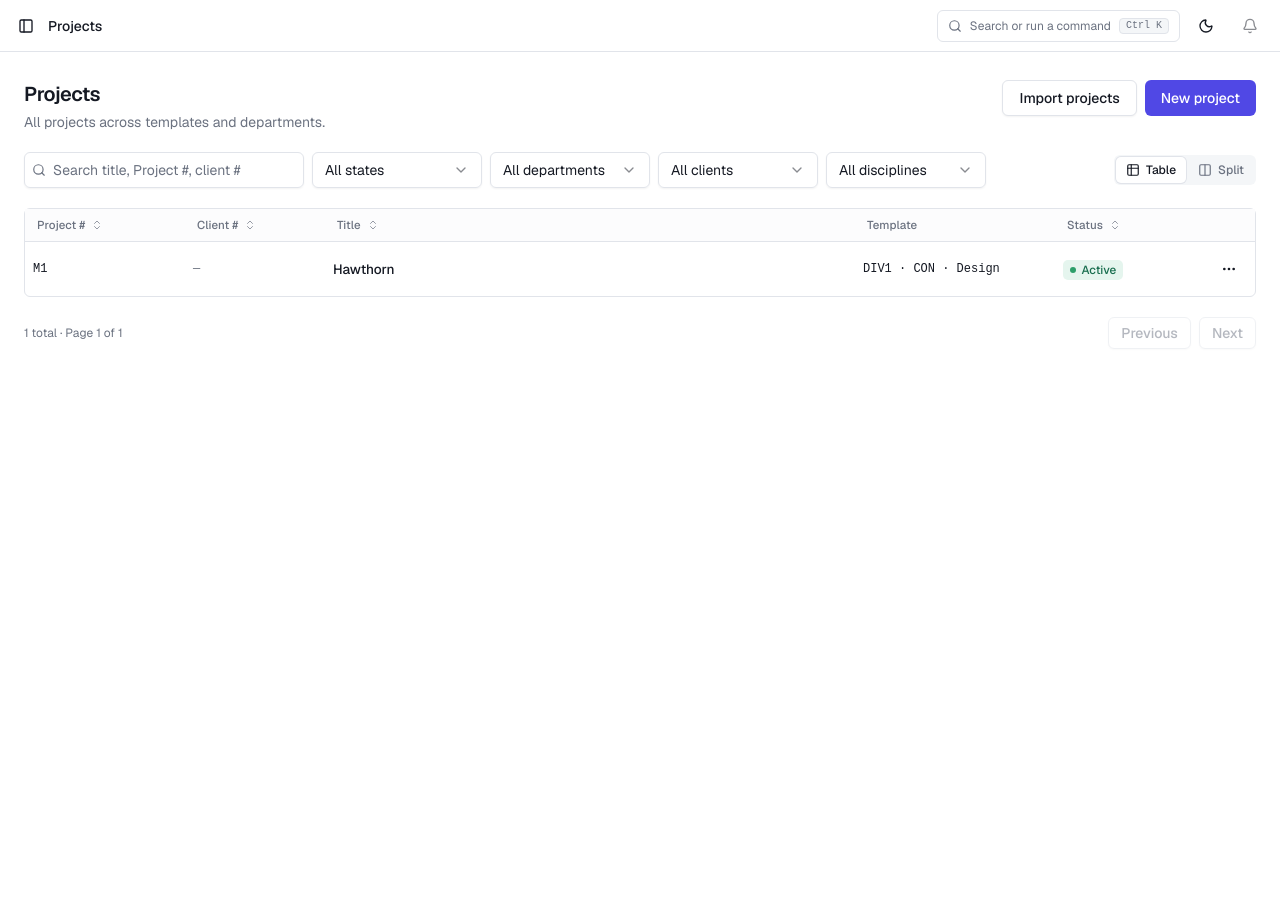
it: ProjectsListPage › Peek panel renders an Open change orders section when there are draft/submitted CORs
expect the text "Hawthorn" is shown: met, box [325, 242, 855, 296]
Default Table layout — click the data row to dock the peek rail.
Click the row "M1 — Hawthorn DIV1 · CON · Design Active" at (364, 269), box [25, 242, 1255, 296]
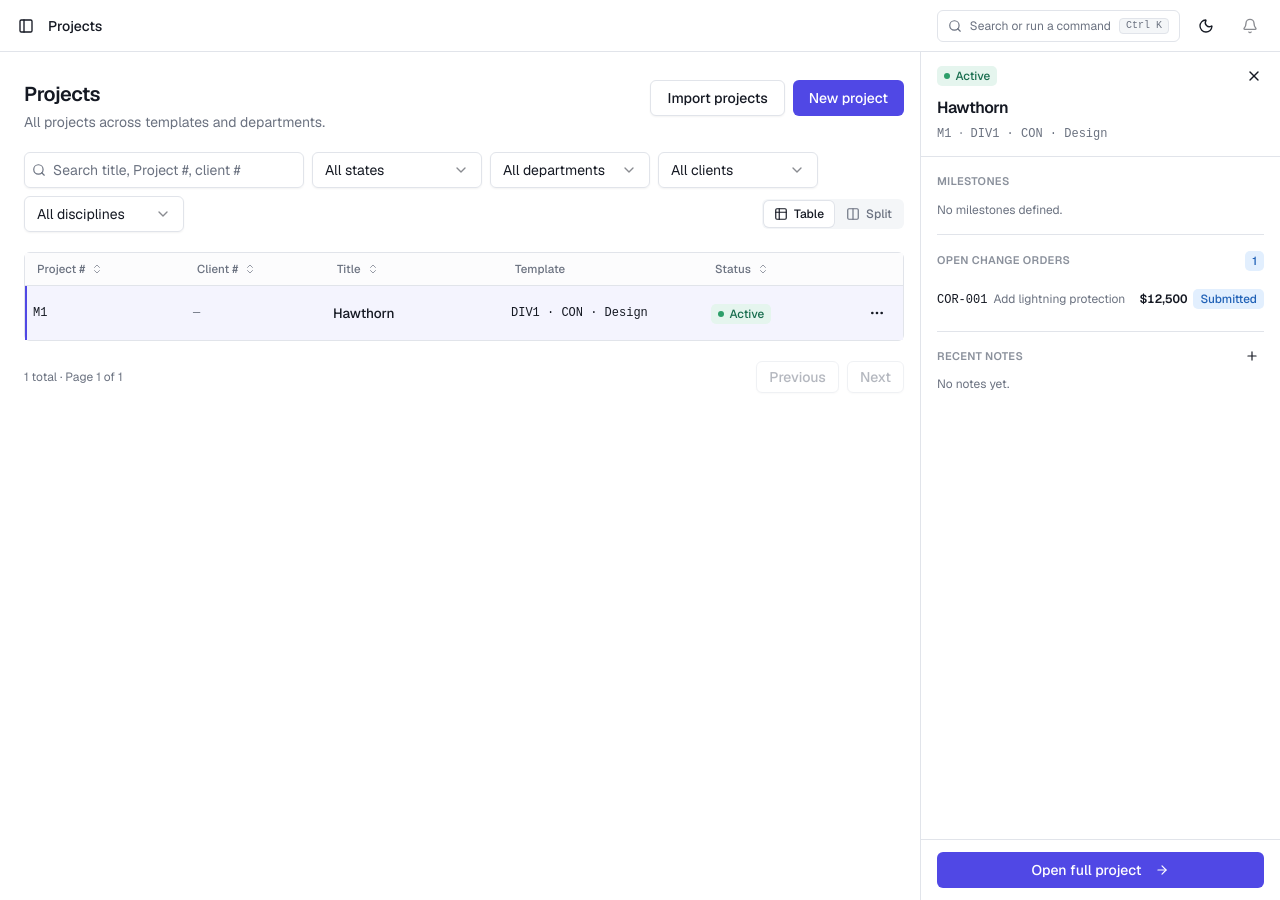
expect the text "COR-001" is shown: met, box [937, 293, 987, 307]
expect the heading "Open change orders" is shown: met, box [937, 252, 1070, 269]
